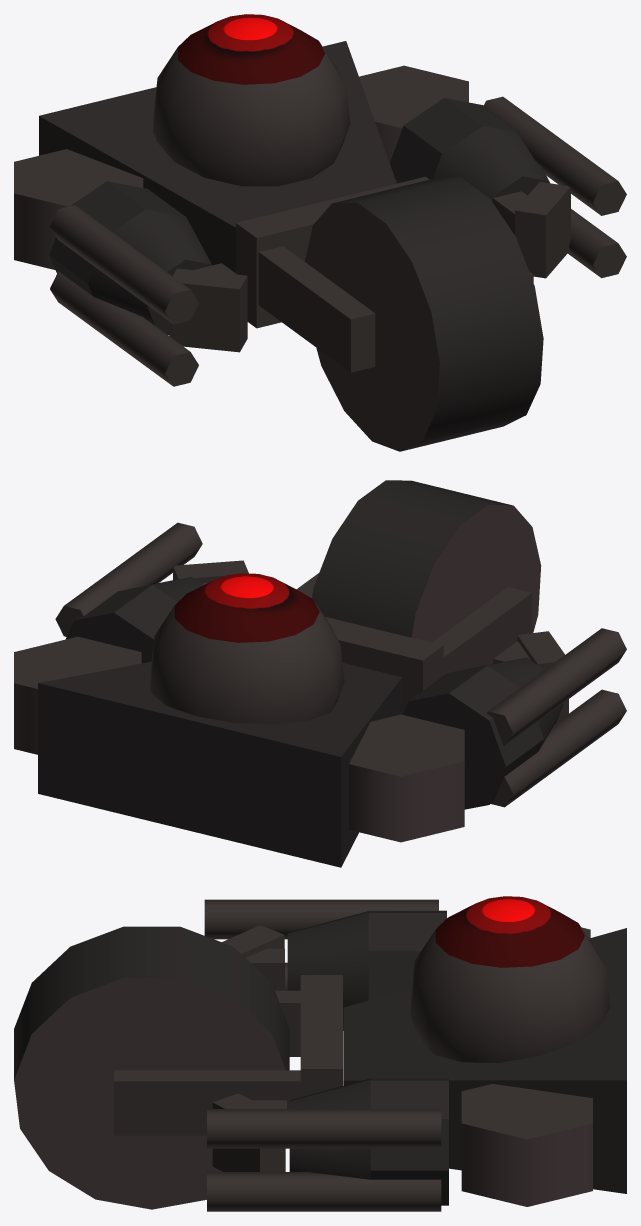
Rendered from robotmonster.FBX.
The picture shows the model from 3 angles, top to bottom: view 1: azimuth 30°, elevation 25°; view 2: azimuth 150°, elevation 25°; view 3: azimuth 270°, elevation 25°; orthographic projection. The views are drawn at different scales.
Visible parts, largest first — view 1: Box008, Cylinder002, Cylinder001, Sphere001; view 2: Box008, Cylinder002, Sphere001, Cylinder001; view 3: Box008, Cylinder001, Sphere001, Cylinder002.
Part boxes in pixels (x1=…): Box008: x1=39, y1=41, x2=543, y2=451; Cylinder002: x1=14, y1=149, x2=247, y2=386; Cylinder001: x1=359, y1=65, x2=626, y2=278; Sphere001: x1=153, y1=14, x2=350, y2=186; Box008: x1=38, y1=480, x2=541, y2=867; Cylinder002: x1=349, y1=628, x2=626, y2=842; Sphere001: x1=150, y1=573, x2=344, y2=724; Cylinder001: x1=14, y1=522, x2=248, y2=754; Box008: x1=14, y1=926, x2=626, y2=1209; Cylinder001: x1=207, y1=1078, x2=592, y2=1211; Sphere001: x1=410, y1=896, x2=610, y2=1062; Cylinder002: x1=204, y1=899, x2=590, y2=1030.
Bounding box in the file's own units: 149 × 84.83 × 168.
